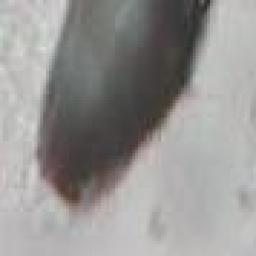crystals: (37, 0, 213, 218)
